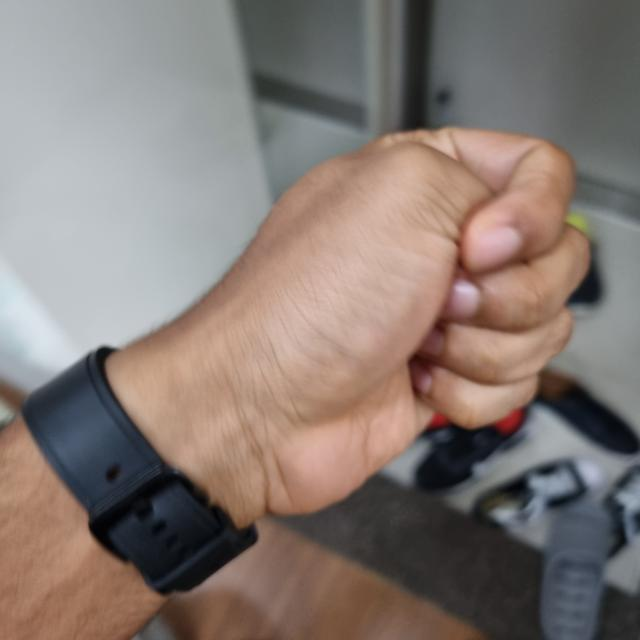Rock: (112, 124, 587, 520)
